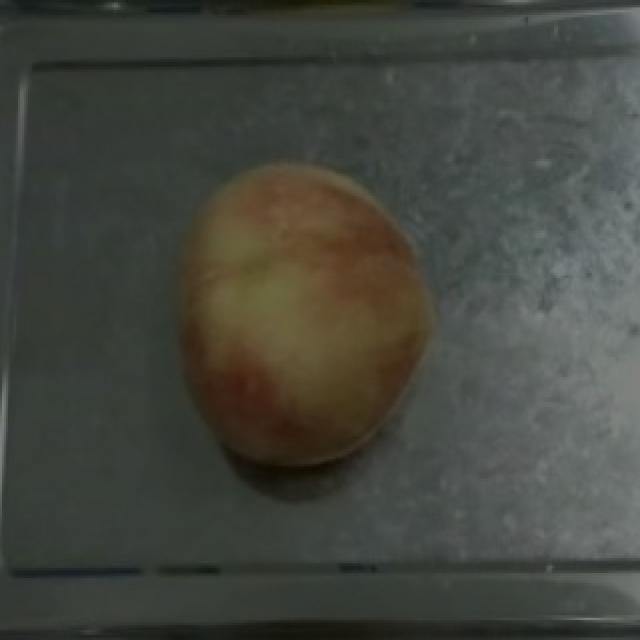Fruit: (154, 146, 454, 479)
